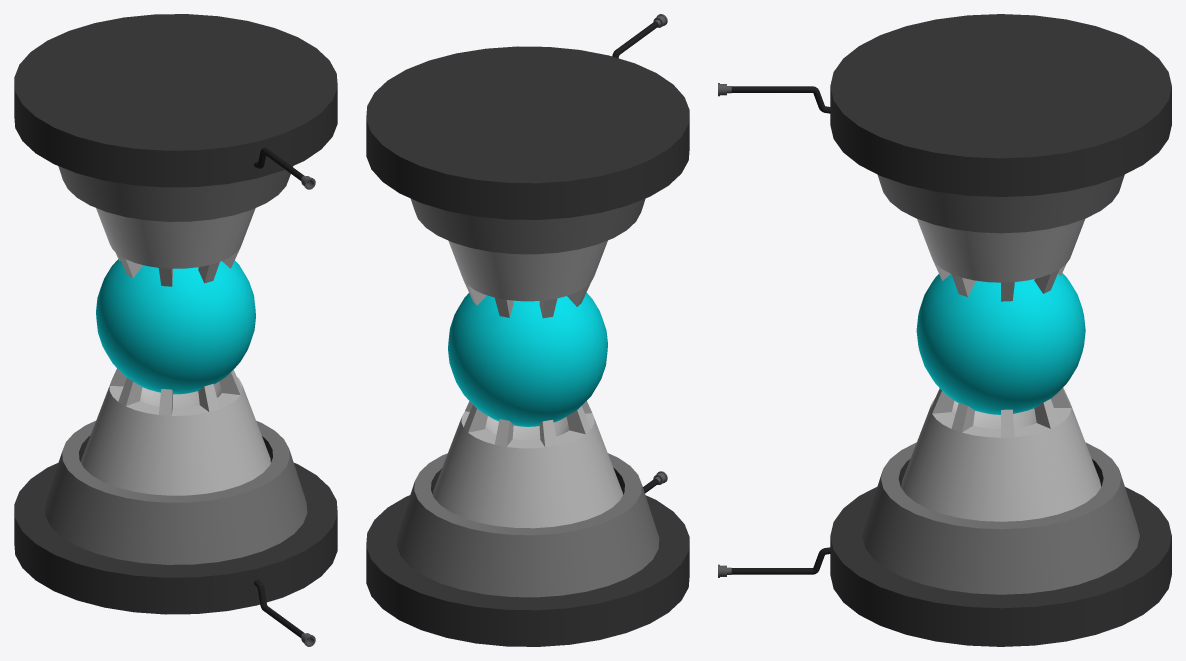
File: Spaceship_Fuel_Core.fbx
The picture shows the model from 3 angles, left to right: view 1: azimuth 30°, elevation 25°; view 2: azimuth 150°, elevation 25°; view 3: azimuth 270°, elevation 25°; orthographic projection. The views are drawn at different scales.
Visible parts, largest first — view 1: Cylinder; view 2: Cylinder; view 3: Cylinder.
Part boxes in pixels (<box>): Cylinder: <box>14,14,337,646</box>; Cylinder: <box>366,14,689,646</box>; Cylinder: <box>718,14,1171,646</box>.
Bounding box in the file's own units: 600 × 956 × 797.
